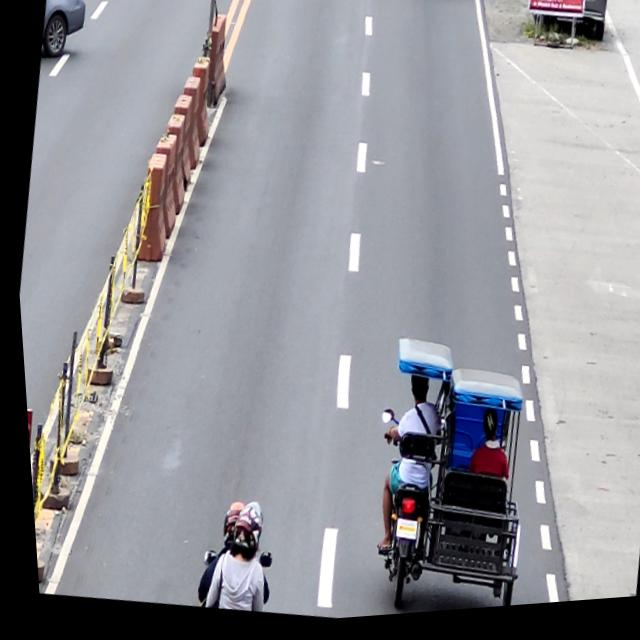Tricycle: (340, 331, 548, 621)
